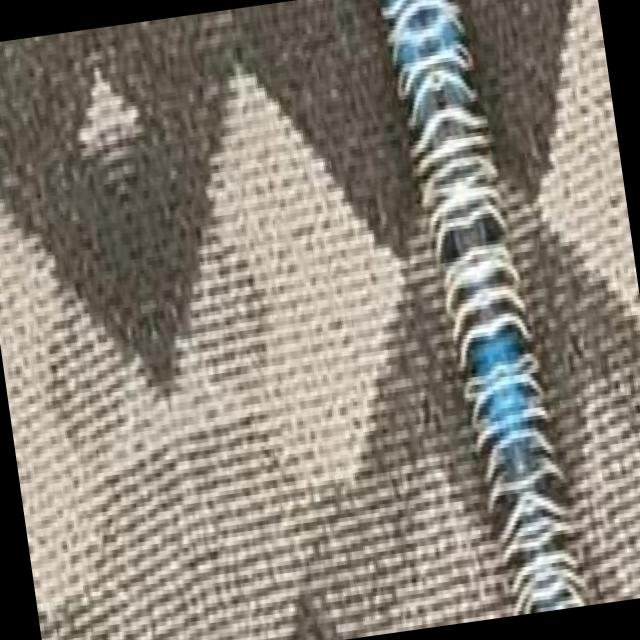gray stitch: (377, 0, 591, 622)
